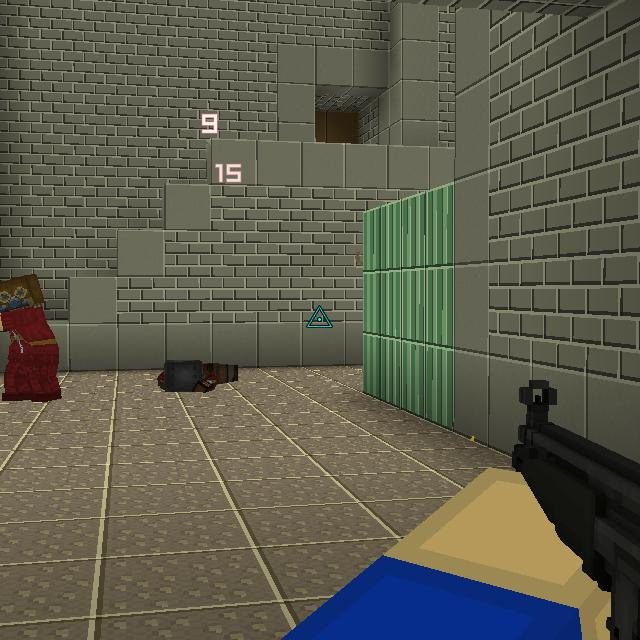enemy: (2, 272, 64, 406)
